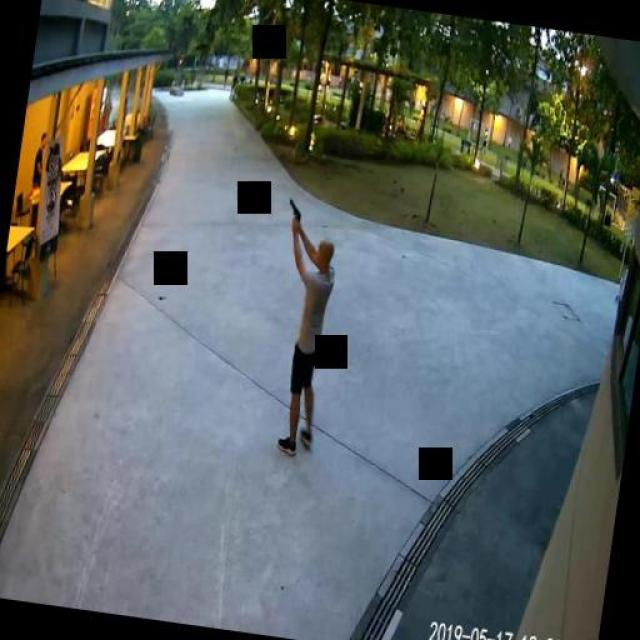gun: (285, 196, 304, 229)
